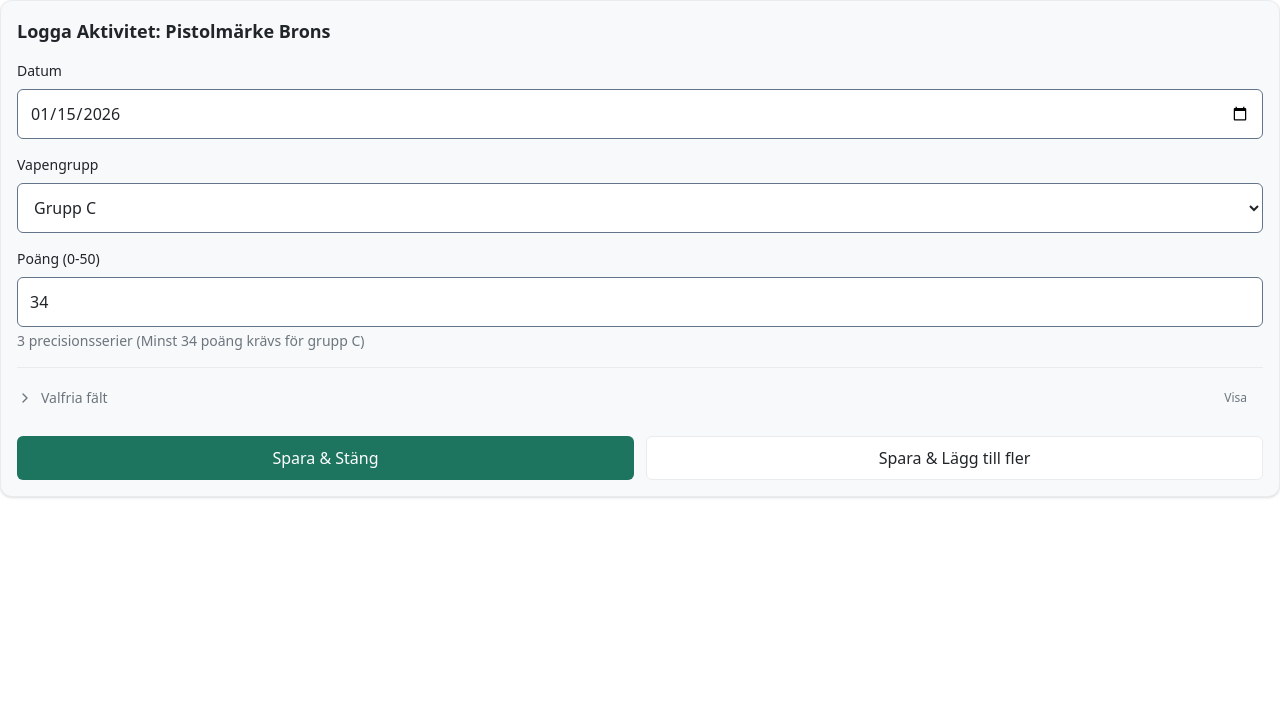
UniversalAchievementLogger › success toast › shows success toast after save and add another
Step 1. Click the button "Spara & Lägg till fler" → (954, 458), box [646,436,1263,480]
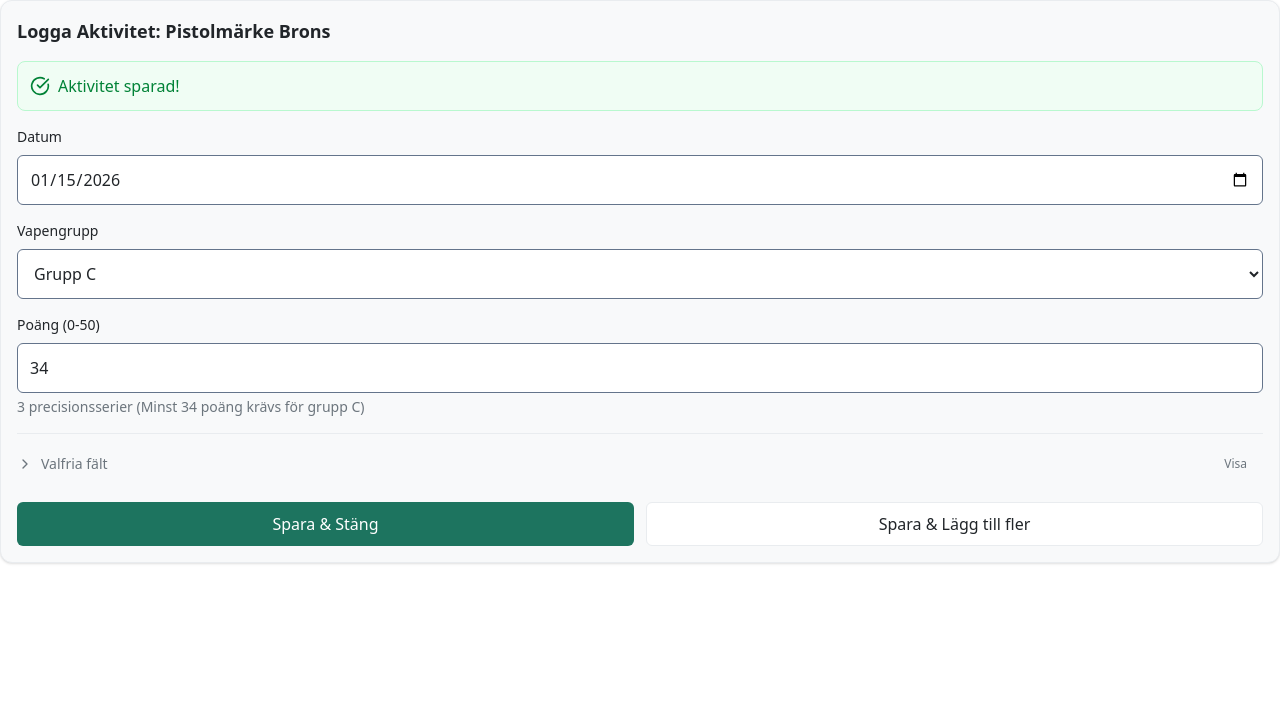
Expected: the text "Aktivitet sparad!" is shown, [58,74,180,98]
